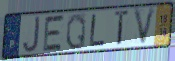E: (41, 13, 66, 53)
J: (22, 15, 41, 55)
L: (88, 13, 107, 49)
Q: (65, 12, 87, 51)
T: (113, 9, 131, 48)
V: (132, 5, 158, 48)
